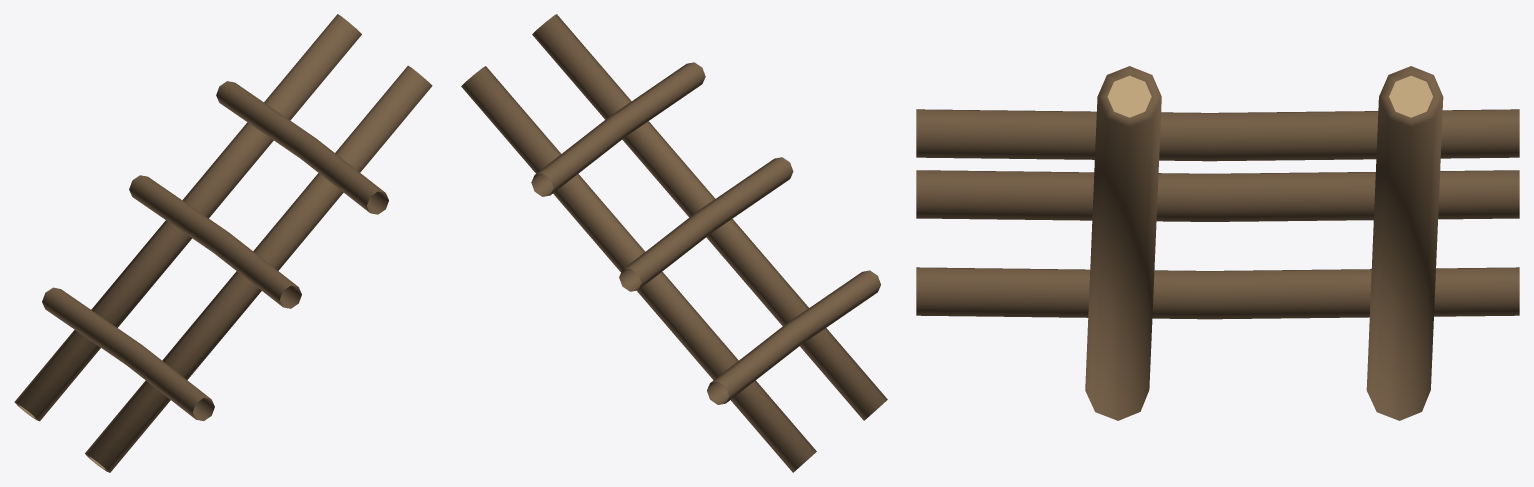
The model's file is rpgpp_ag_roof_support_01_6x3x3_half_a.fbx.
3 renders of one model, left to right at view 1: azimuth 30°, elevation 25°; view 2: azimuth 150°, elevation 25°; view 3: azimuth 270°, elevation 25°, orthographic. The views are drawn at different scales.
Visible parts, largest first — view 1: rpgpp_ag_roof_support_01_6x3x3_half_a; view 2: rpgpp_ag_roof_support_01_6x3x3_half_a; view 3: rpgpp_ag_roof_support_01_6x3x3_half_a.
Boxes of the visible parts, <box> form: rpgpp_ag_roof_support_01_6x3x3_half_a: <box>14,14,432,472</box>; rpgpp_ag_roof_support_01_6x3x3_half_a: <box>461,14,887,472</box>; rpgpp_ag_roof_support_01_6x3x3_half_a: <box>916,66,1519,420</box>.
Size of the model in its own units: 3.96 by 3.59 by 3.
